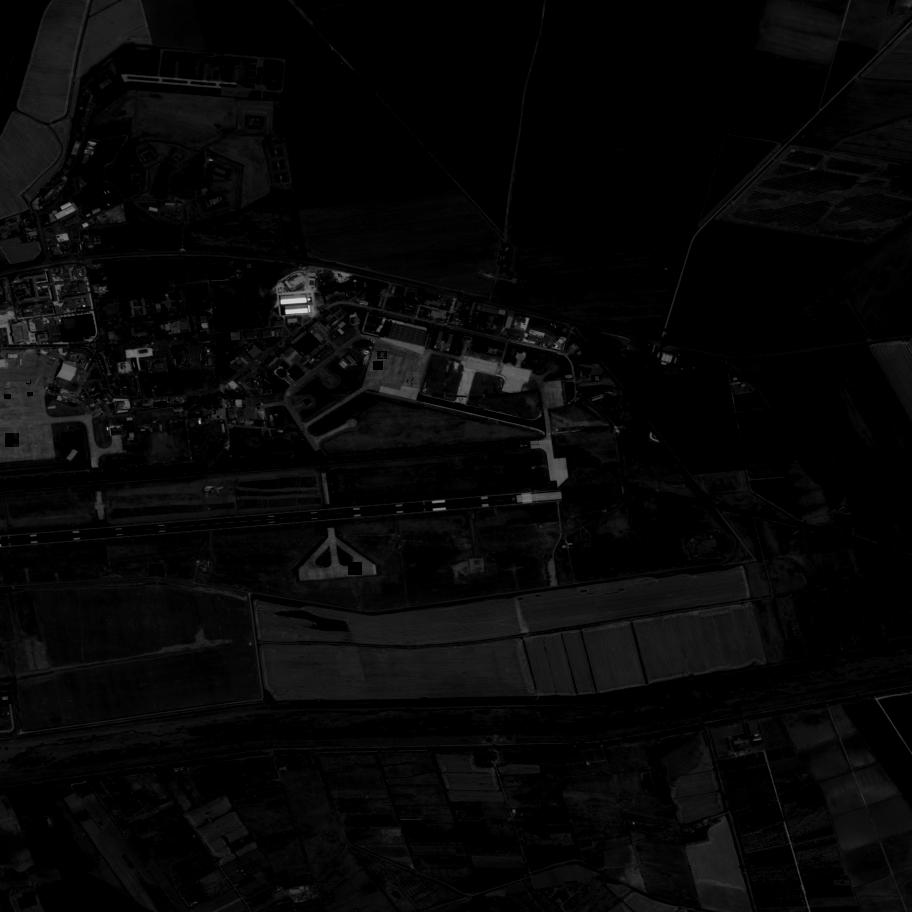plane: (404, 375, 419, 390), (5, 433, 20, 448), (348, 561, 362, 577), (373, 361, 383, 370), (390, 300, 401, 307), (378, 352, 387, 359), (406, 292, 415, 298), (4, 382, 10, 388), (4, 394, 10, 399), (28, 393, 33, 396), (27, 381, 30, 383)
storage-tank: (160, 401, 167, 408), (154, 402, 161, 409)
